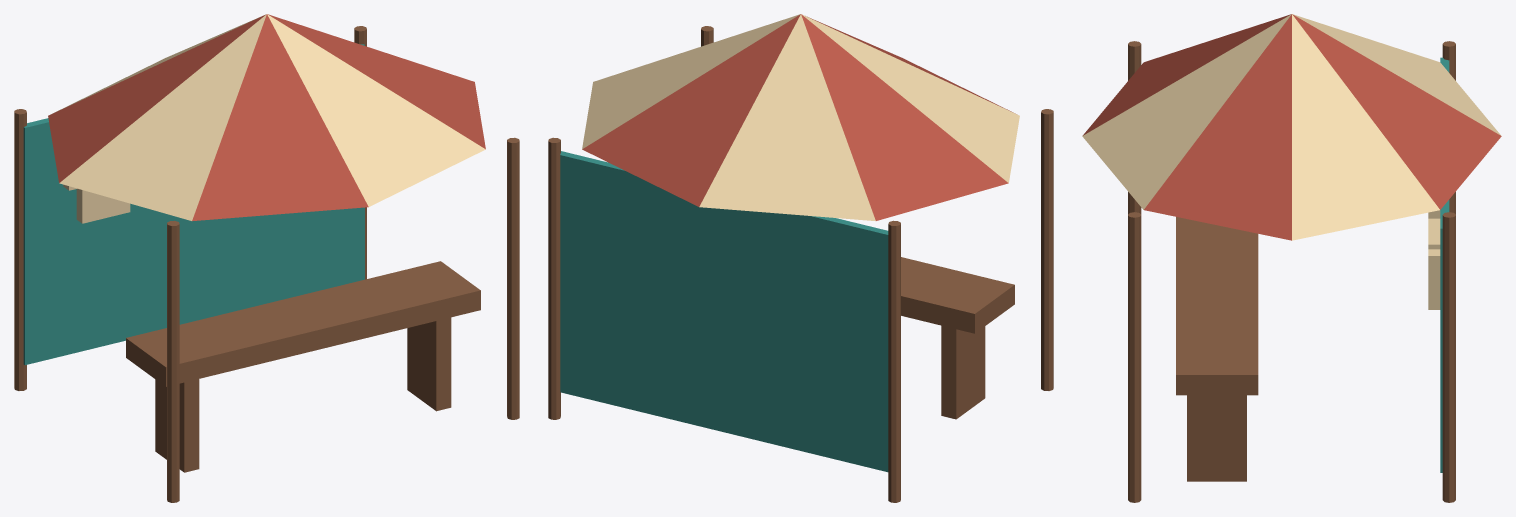
The model's file is tent_merch.glb.
3 renders of one model, left to right at view 1: azimuth 30°, elevation 25°; view 2: azimuth 150°, elevation 25°; view 3: azimuth 270°, elevation 25°, orthographic. The views are drawn at different scales.
Parts seen in each view (by area): view 1: backdrop, merch_counter, canopy_panel.005, canopy_panel.004, canopy_panel.006, canopy_panel.003, canopy_panel.007, counter_leg.001, tent_post.002, tent_post, tent_post.001, counter_leg (+1 smaller); view 2: backdrop, canopy_panel.002, canopy_panel.003, canopy_panel.001, canopy_panel.004, canopy_panel, merch_counter, counter_leg, tent_post.003, tent_post, tent_post.001; view 3: canopy_panel, canopy_panel.007, merch_counter, canopy_panel.001, canopy_panel.006, counter_leg.001, canopy_panel.002, canopy_panel.005, tent_post.002, tent_post.003, backdrop, shirt_display.002 (+2 smaller).
Boxes of the visible parts, box(x1,y1,x2,y2) form: backdrop: box(23, 44, 364, 365); merch_counter: box(126, 261, 480, 386); canopy_panel.005: box(192, 14, 368, 221); canopy_panel.004: box(59, 14, 266, 220); canopy_panel.006: box(267, 14, 485, 206); canopy_panel.003: box(48, 14, 265, 182); canopy_panel.007: box(267, 14, 485, 149); counter_leg.001: box(407, 317, 451, 411); tent_post.002: box(507, 137, 519, 419); tent_post: box(167, 220, 179, 502); tent_post.001: box(14, 109, 26, 390); counter_leg: box(155, 379, 199, 472); backdrop: box(560, 151, 888, 472); canopy_panel.002: box(699, 14, 875, 221); canopy_panel.003: box(801, 14, 1008, 220); canopy_panel.001: box(582, 14, 800, 206); canopy_panel.004: box(802, 14, 1019, 182); canopy_panel: box(582, 14, 800, 149); merch_counter: box(901, 257, 1014, 333); counter_leg: box(941, 325, 985, 419); tent_post.003: box(548, 137, 560, 419); tent_post: box(1041, 109, 1053, 390); tent_post.001: box(888, 220, 900, 502); canopy_panel: box(1292, 14, 1439, 240); canopy_panel.007: box(1144, 14, 1291, 240); merch_counter: box(1176, 217, 1258, 395); canopy_panel.001: box(1292, 14, 1501, 209); canopy_panel.006: box(1082, 14, 1291, 209); counter_leg.001: box(1187, 395, 1246, 481); canopy_panel.002: box(1293, 14, 1501, 135); canopy_panel.005: box(1082, 14, 1290, 135); tent_post.002: box(1128, 212, 1141, 502); tent_post.003: box(1442, 212, 1455, 502); backdrop: box(1440, 57, 1449, 472); shirt_display.002: box(1428, 220, 1440, 309).
Bounding box in the file's own units: 3.3 × 2.95 × 2.8.
